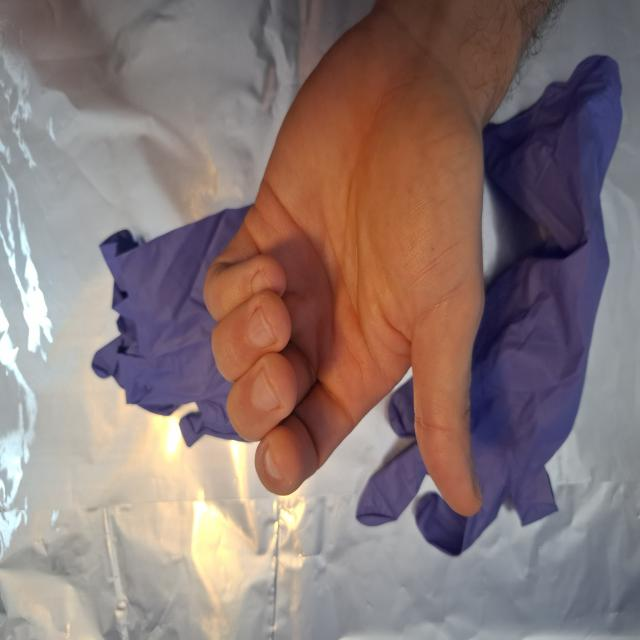glove_off: (201, 8, 487, 526)
